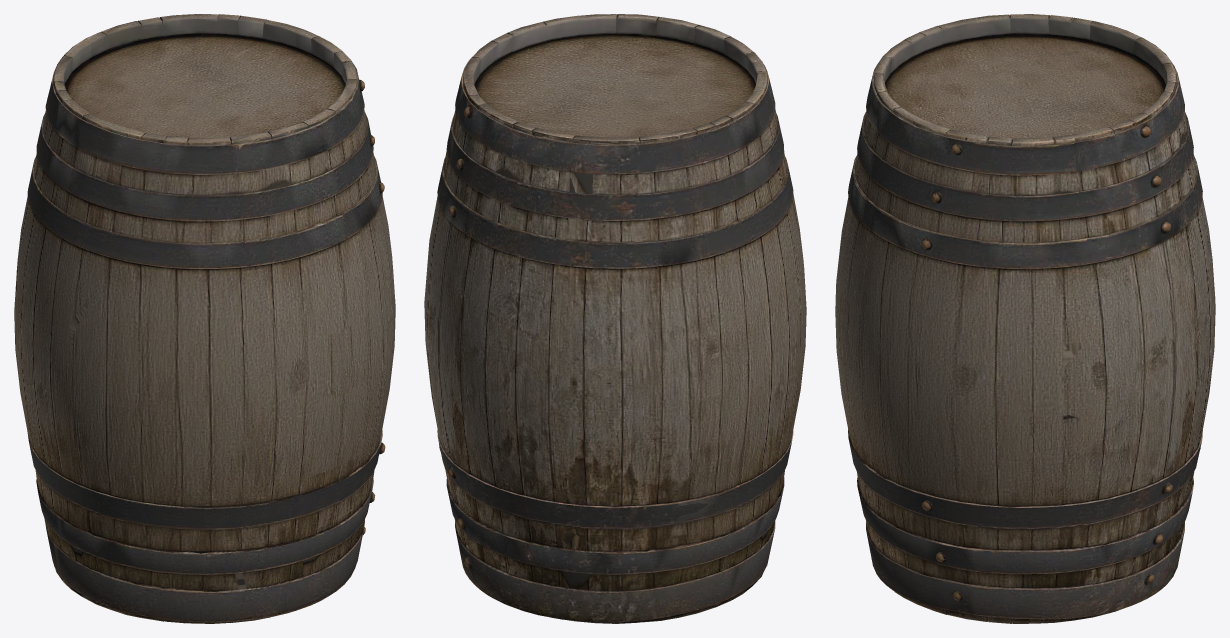
File: barrel.glb
3 views of the same model, side by side, from view 1: azimuth 30°, elevation 25°; view 2: azimuth 150°, elevation 25°; view 3: azimuth 270°, elevation 25° (orthographic).
Parts seen in each view (by area): view 1: barrel; view 2: barrel; view 3: barrel.
Part boxes in pixels (x1=…): barrel: x1=14, y1=14, x2=395, y2=623; barrel: x1=424, y1=14, x2=806, y2=623; barrel: x1=835, y1=14, x2=1215, y2=623.
Size of the model in its own units: 0.6428 by 0.9 by 0.6429.
1 material, 1 textured.
